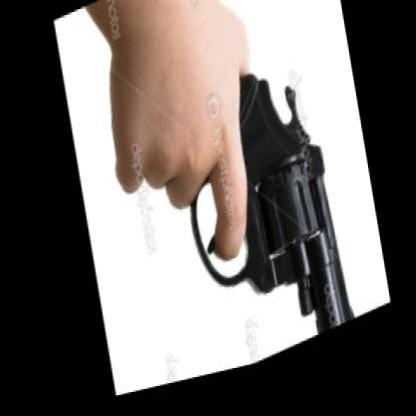pistol: (99, 11, 359, 396)
